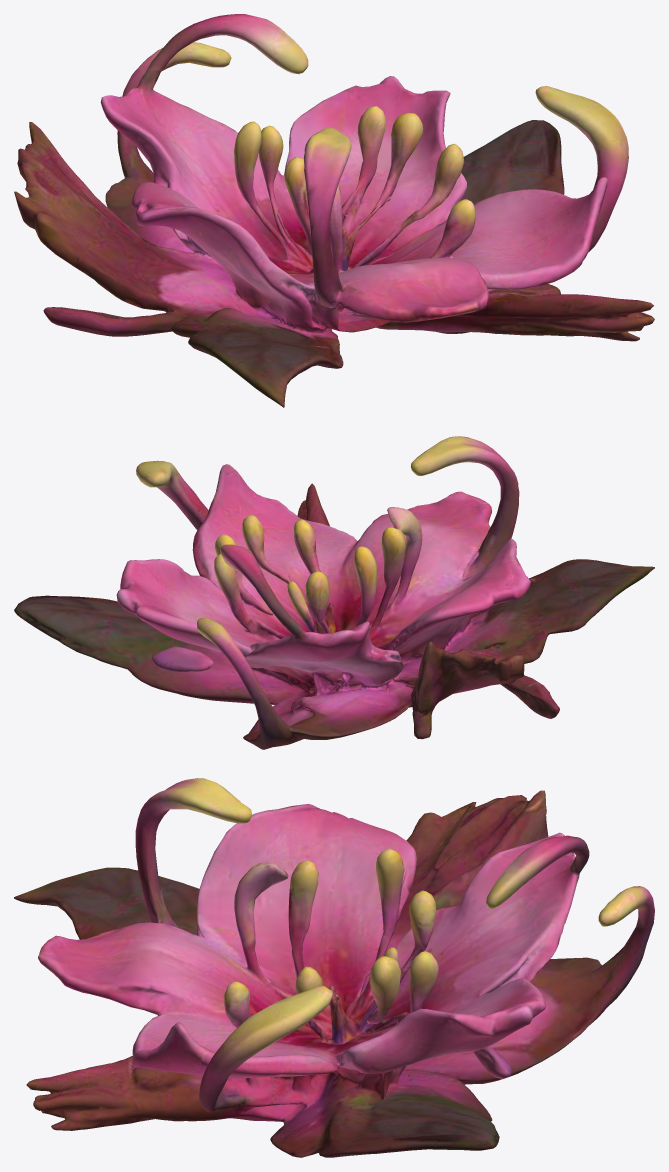
3 renders of one model, top to bottom at view 1: azimuth 30°, elevation 25°; view 2: azimuth 150°, elevation 25°; view 3: azimuth 270°, elevation 25°, orthographic. The views are drawn at different scales.
Size of the model in its own units: 1.98 by 0.8621 by 1.89.
1 material, 1 textured.
